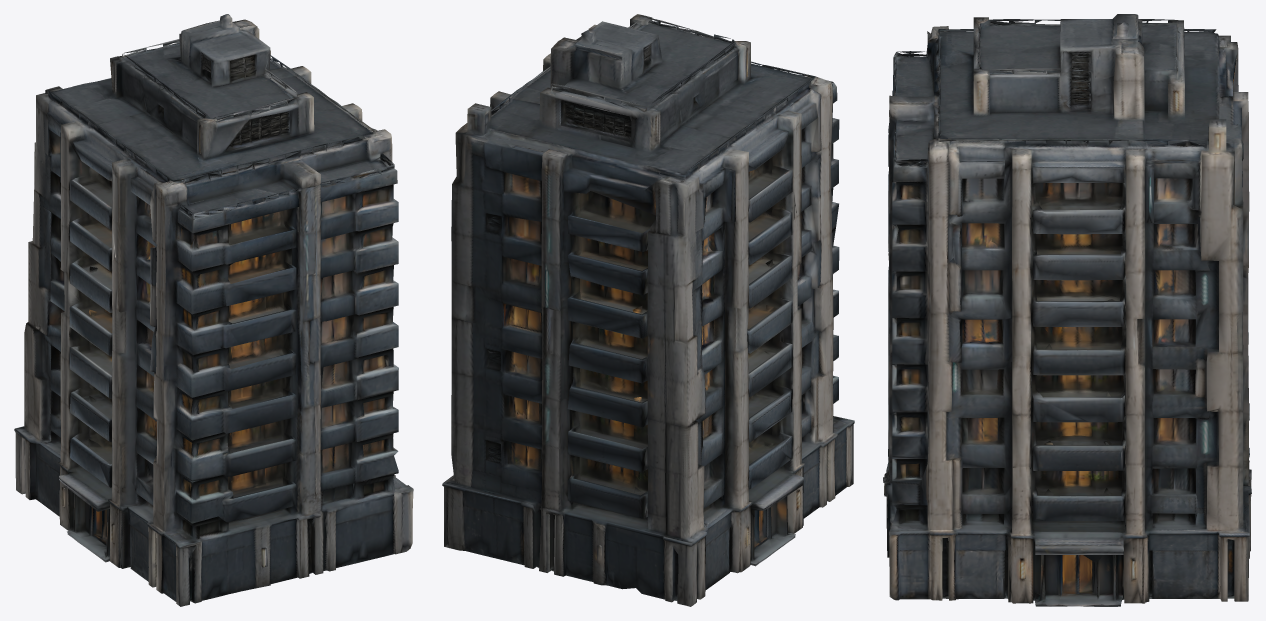
Rendered from kairox-residential-midrise.glb.
3 views of the same model, side by side, from view 1: azimuth 30°, elevation 25°; view 2: azimuth 150°, elevation 25°; view 3: azimuth 270°, elevation 25° (orthographic). The views are drawn at different scales.
Parts seen in each view (by area): view 1: kairox-residential-midrise; view 2: kairox-residential-midrise; view 3: kairox-residential-midrise.
Boxes of the visible parts, x1,y1,x2,y2 form: kairox-residential-midrise: (14,14,413,606); kairox-residential-midrise: (442,14,854,606); kairox-residential-midrise: (883,14,1251,606).
Size of the model in its own units: 21.26 by 36 by 22.45.
1 material, 1 textured.
